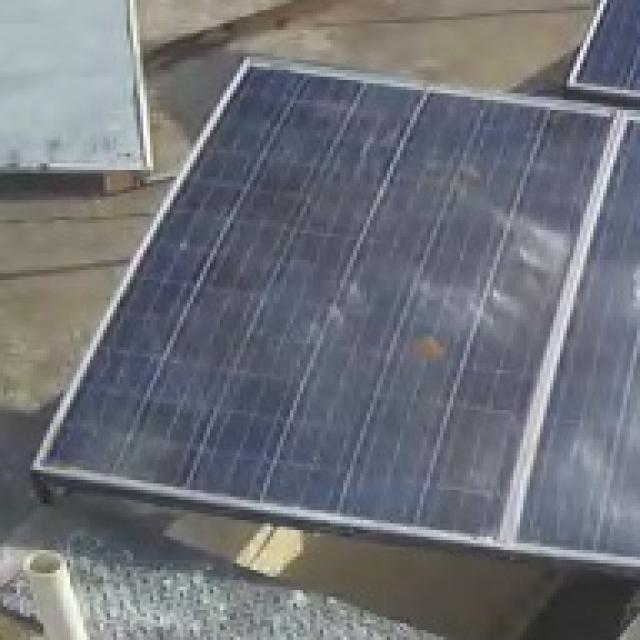Anomaly Solar Panel: (33, 54, 624, 542)
Surface Contaminant: (398, 332, 453, 378)
